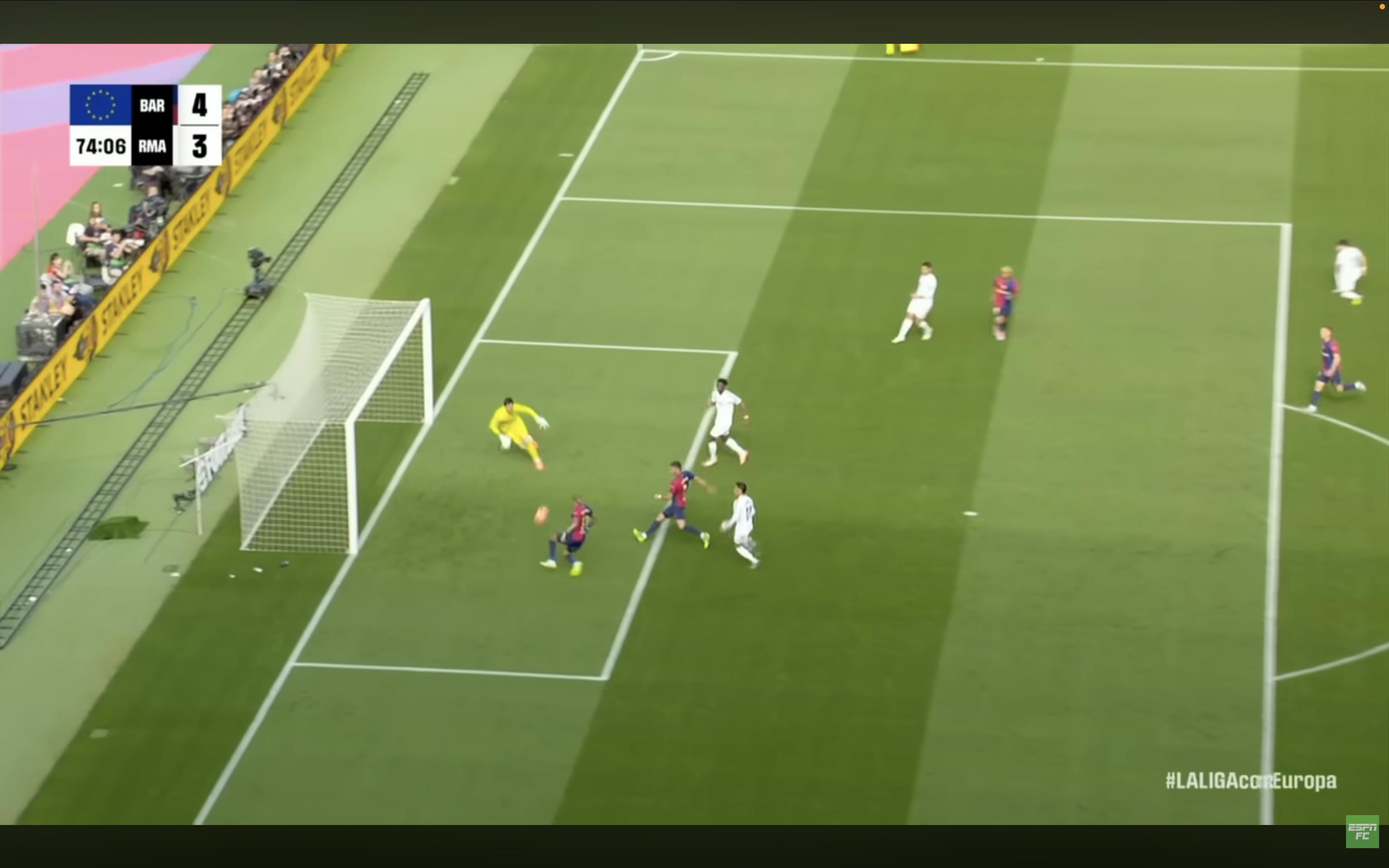ball: (533, 505, 551, 525)
goalkeeper: (489, 398, 548, 470)
player: (634, 463, 715, 548), (541, 495, 593, 577), (703, 378, 749, 467), (892, 262, 938, 343), (1306, 327, 1346, 413), (721, 482, 760, 568), (1334, 239, 1367, 304), (993, 267, 1019, 341)
